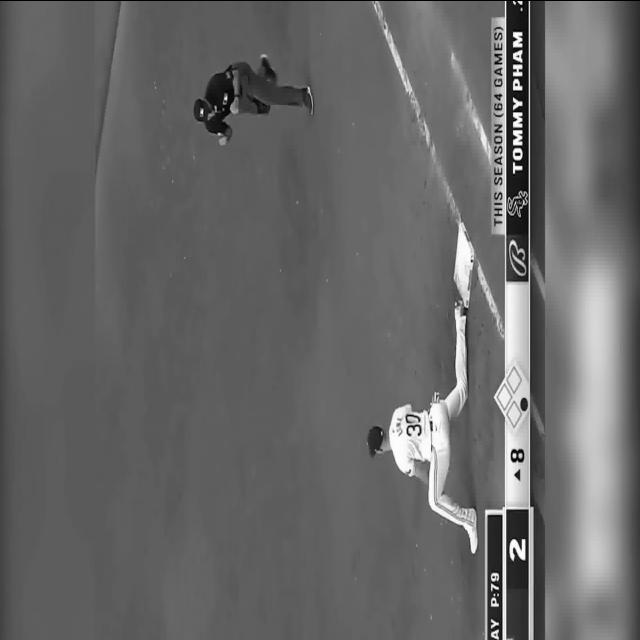base: (454, 214, 476, 298)
shoe: (463, 506, 478, 554), (259, 54, 276, 83), (304, 86, 314, 115), (453, 299, 468, 317)
